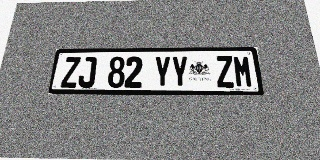2: (124, 56, 142, 88)
8: (107, 57, 126, 88)
J: (77, 57, 97, 88)
M: (233, 55, 254, 88)
Y: (171, 56, 189, 88), (154, 56, 171, 88)
Z: (60, 57, 81, 88), (215, 56, 235, 88)
